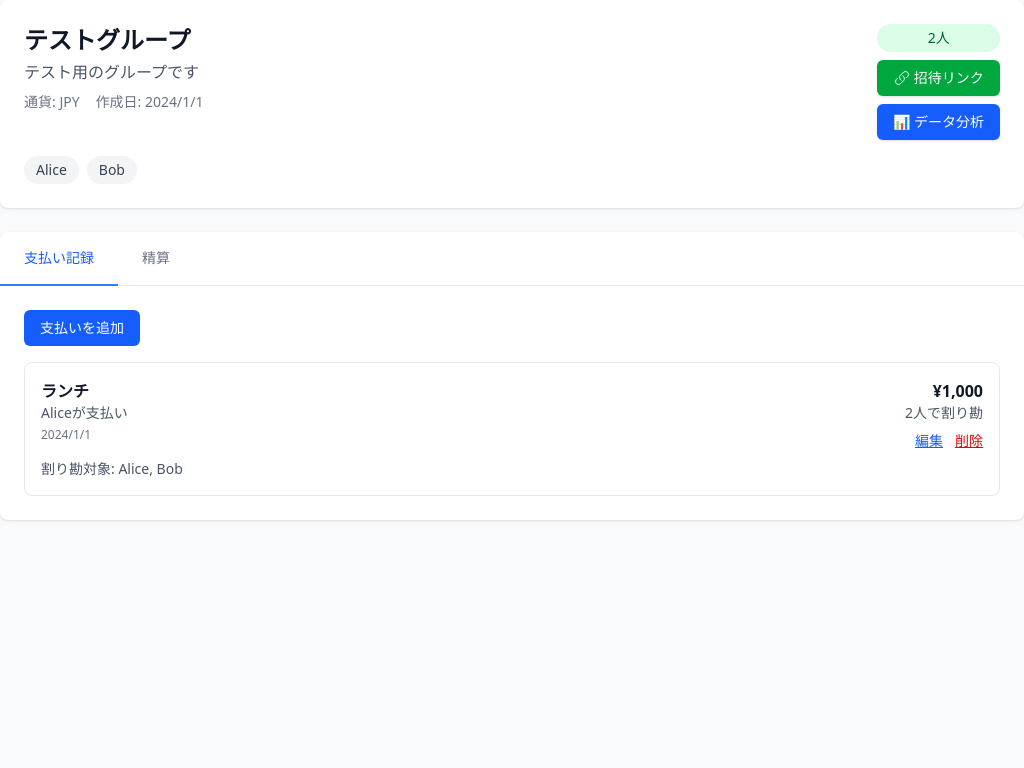
Test: GroupPage › 削除ボタンクリック時に支払いを削除する
Check: the heading "ランチ" is shown, box [41,380,89,402]
# Click the delete button
Click the button "削除".
click(969, 441)  # box [955,431,983,451]
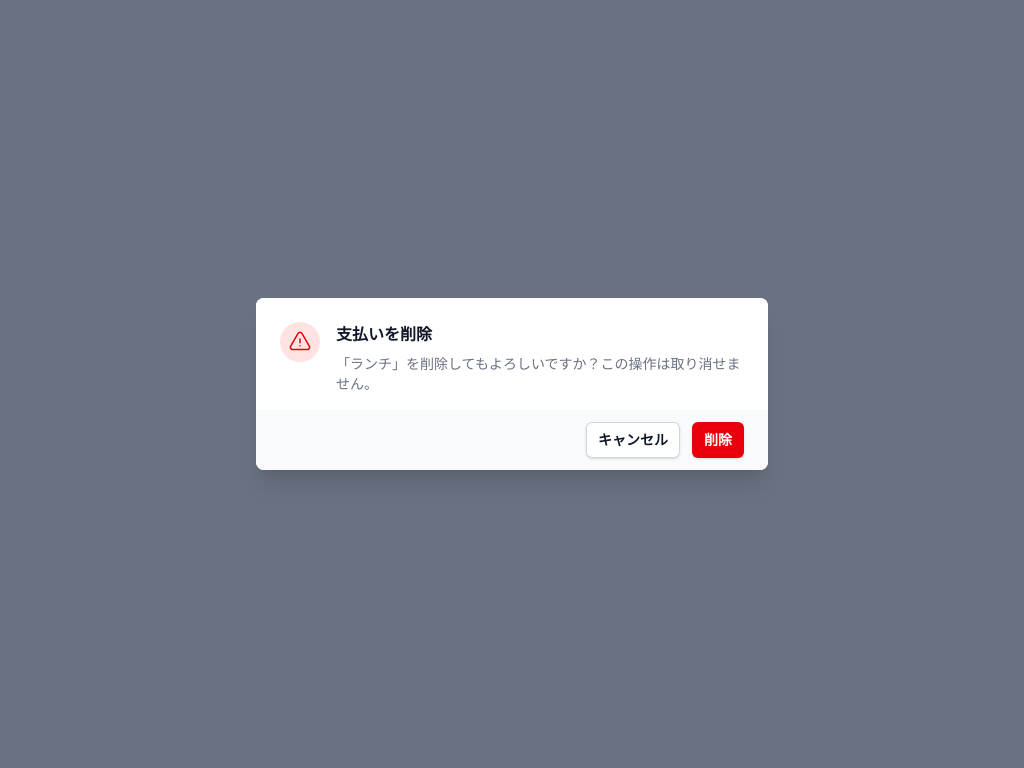
Check: the heading "支払いを削除" is shown, box [336,323,432,345]
Check: the text "「ランチ」を削除してもよろしいですか？この操作は取り消せません。" is shown, box [336,354,744,394]
# Click the confirm button in the modal
Click the button "削除".
click(718, 440)  # box [692,422,744,458]
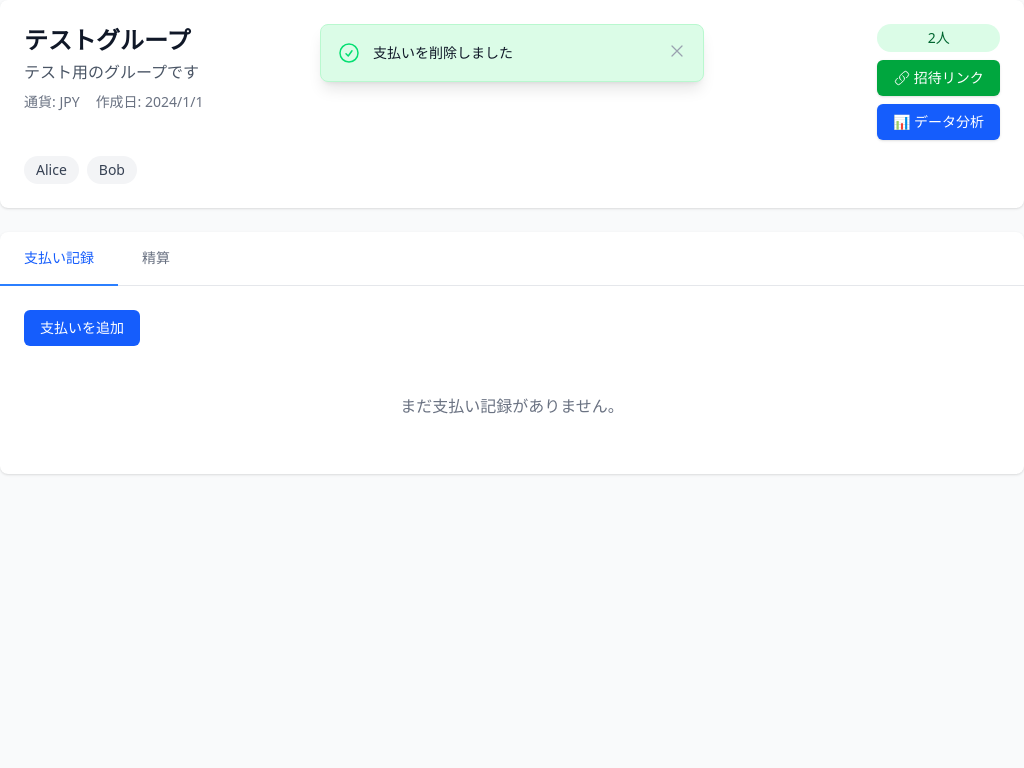
Check: the heading "ランチ" is gone
